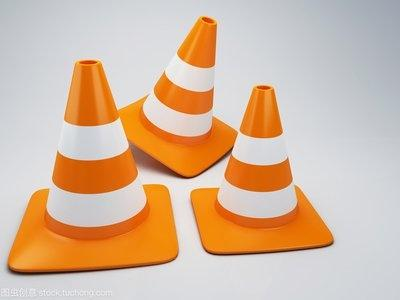cone_barrel: (33, 56, 153, 238), (210, 82, 312, 229), (135, 16, 223, 149)
